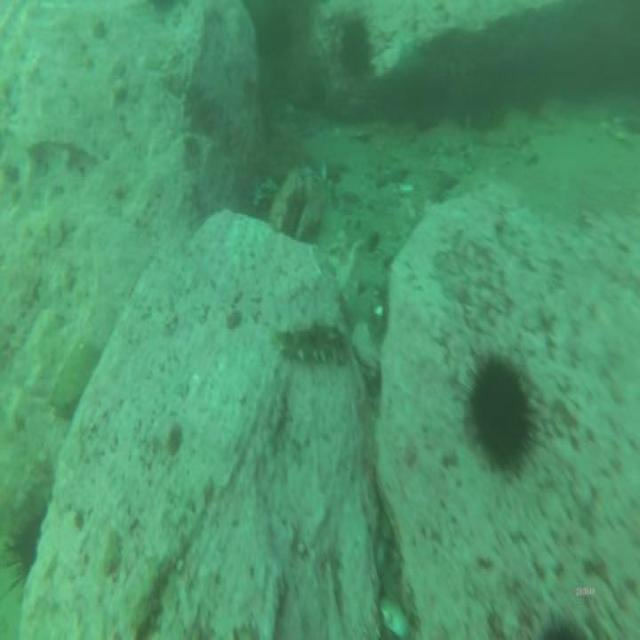echinus: (466, 356, 528, 466), (339, 21, 369, 71)
holothurian: (276, 326, 346, 365)
scallop: (379, 591, 409, 640)
